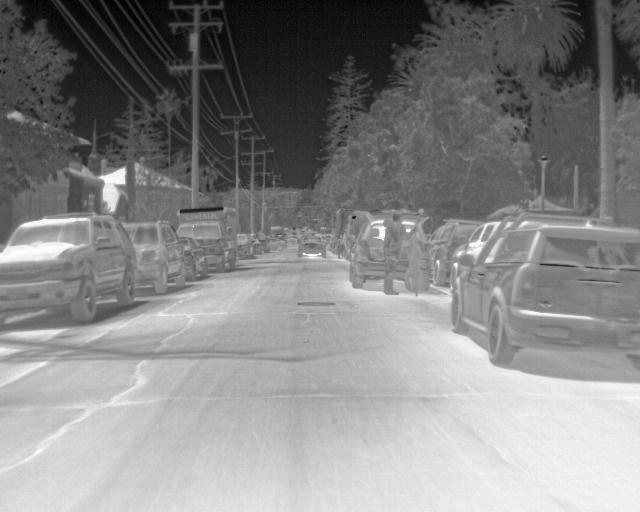bicycle: (450, 222, 639, 374), (3, 211, 136, 328), (121, 219, 189, 293), (447, 217, 501, 297), (427, 216, 483, 291), (350, 214, 387, 288), (178, 234, 208, 281), (297, 233, 328, 261), (236, 232, 254, 259), (266, 235, 286, 254)
empty: (382, 209, 417, 294)
